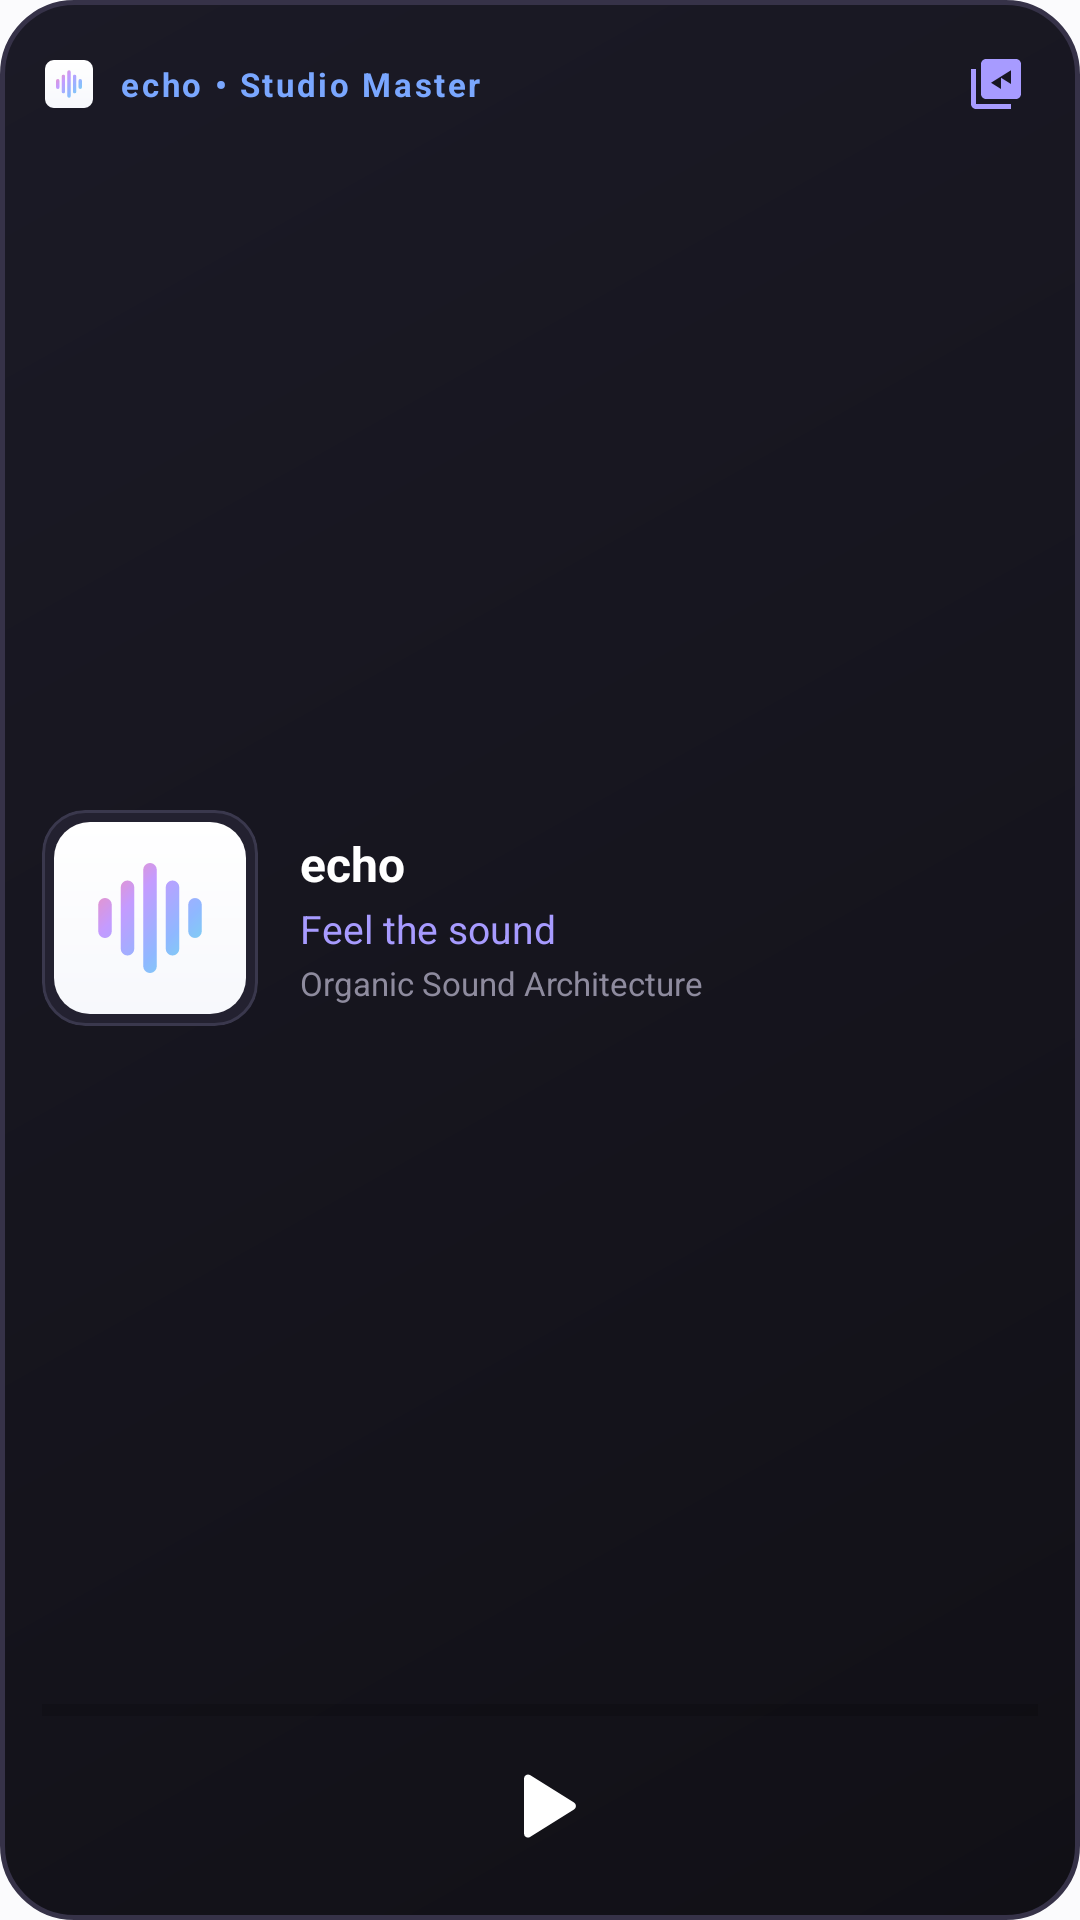

Icon bounding boxes for this 1080 × 1920 phone screenshot, format (left=x1, top=y1, right=x2, bottom=y2):
Album Art: (left=42, top=810, right=258, bottom=1026)
Open Library: (left=971, top=59, right=1021, bottom=109)
Play/Pause: (left=524, top=1774, right=576, bottom=1838)
